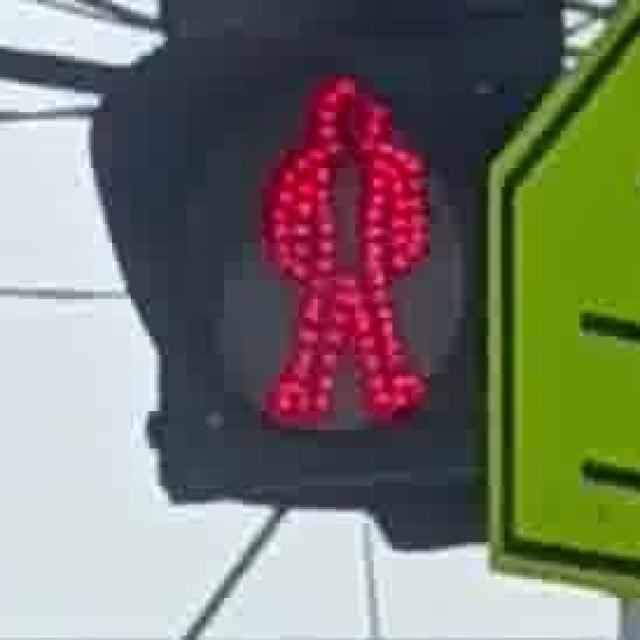red_light: (243, 51, 441, 442)
